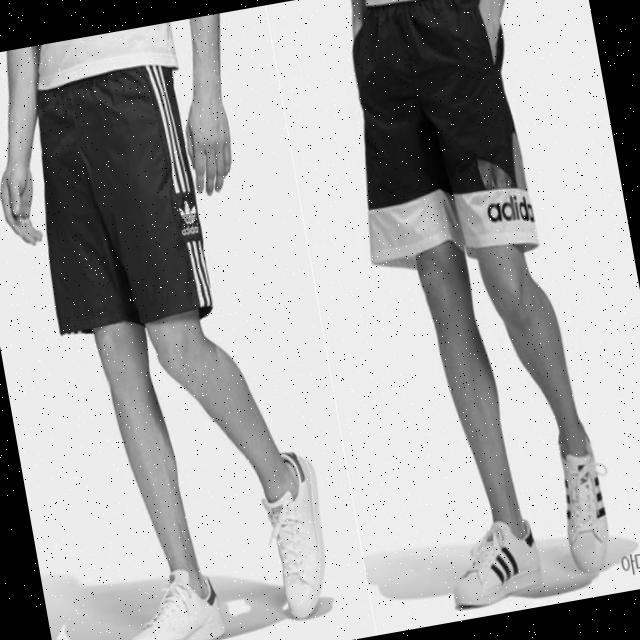Adidas: (172, 192, 202, 233)
